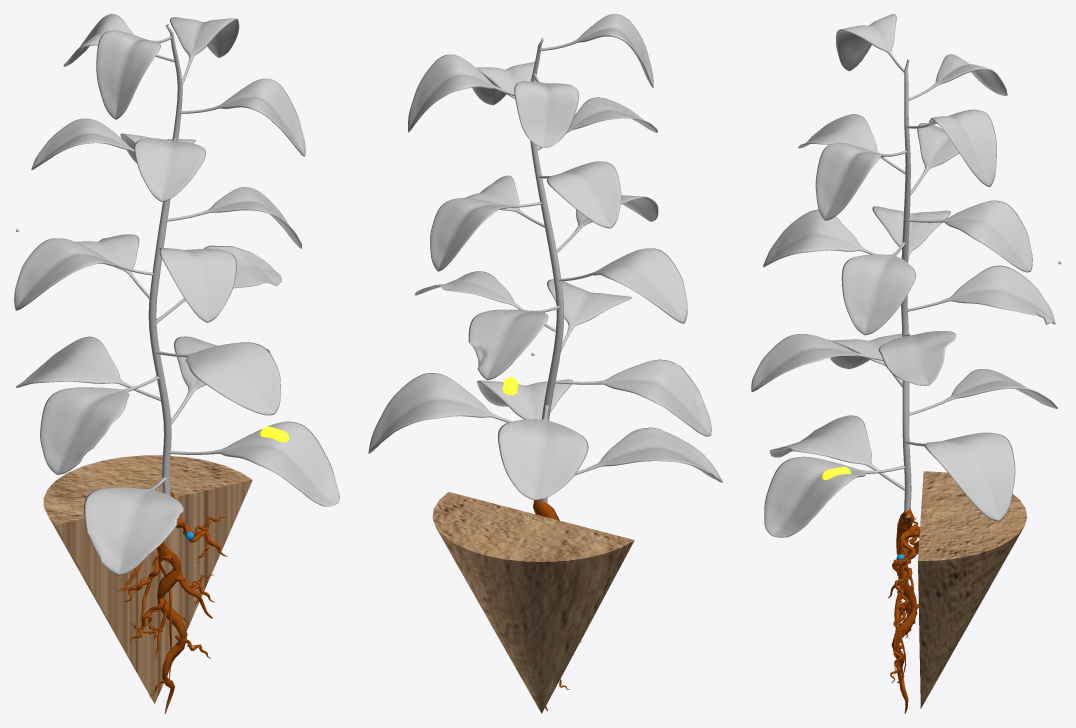
The model's file is outdoorplant.fbx.
3 renders of one model, left to right at view 1: azimuth 30°, elevation 25°; view 2: azimuth 150°, elevation 25°; view 3: azimuth 270°, elevation 25°, orthographic. The views are drawn at different scales.
Parts seen in each view (by area): view 1: stem, Cone, Vine_023; view 2: stem, Cone; view 3: stem, Cone, Vine_023, Vine_023.001.
Boxes of the visible parts, x1,y1,x2,y2 form: stem: [14, 14, 339, 575]; Cone: [43, 455, 252, 703]; Vine_023: [156, 492, 187, 713]; stem: [368, 14, 722, 503]; Cone: [432, 492, 634, 713]; stem: [751, 14, 1057, 537]; Cone: [918, 471, 1027, 708]; Vine_023: [891, 508, 917, 713]; Vine_023.001: [894, 529, 919, 600].
Size of the model in its own units: 3828 by 9080 by 3815.
